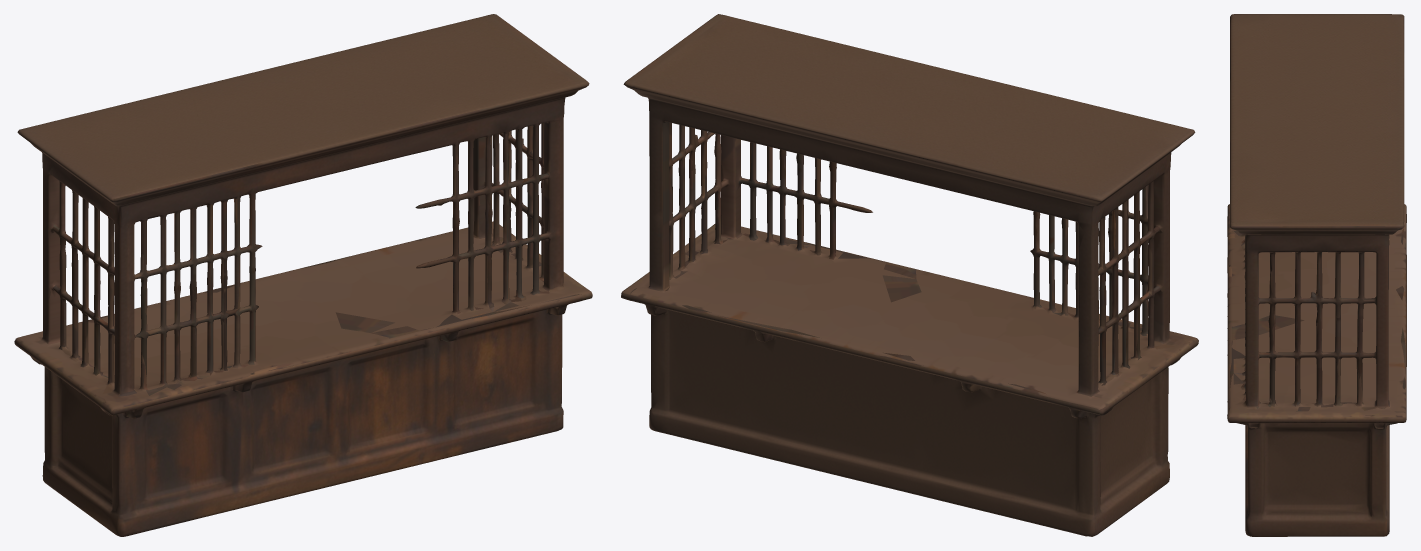
Rendered from mostrador.glb.
3 renders of one model, left to right at view 1: azimuth 30°, elevation 25°; view 2: azimuth 150°, elevation 25°; view 3: azimuth 270°, elevation 25°, orthographic. The views are drawn at different scales.
Parts seen in each view (by area): view 1: temp_mesh.ply; view 2: temp_mesh.ply; view 3: temp_mesh.ply.
Part boxes in pixels (left/top/right/bottom): temp_mesh.ply: left=14, top=14, right=592, bottom=536; temp_mesh.ply: left=621, top=14, right=1198, bottom=536; temp_mesh.ply: left=1227, top=14, right=1406, bottom=536.
Bounding box in the file's own units: 3.4 × 2.36 × 1.2.
1 material, 1 textured.
